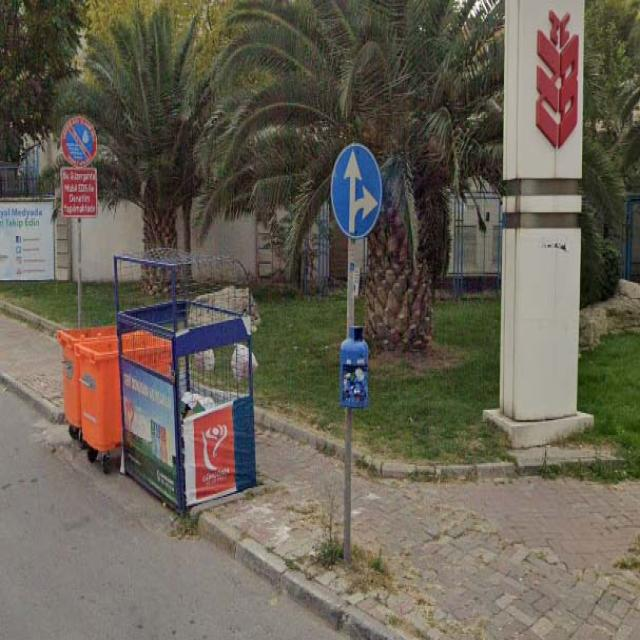ilerisag: (332, 142, 382, 238)
parkyasak: (61, 115, 98, 165)
